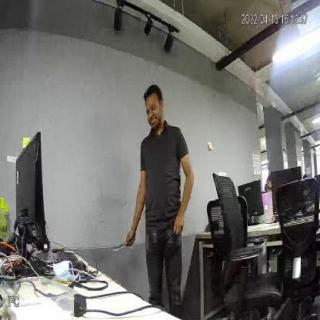knife: (111, 238, 130, 256)
